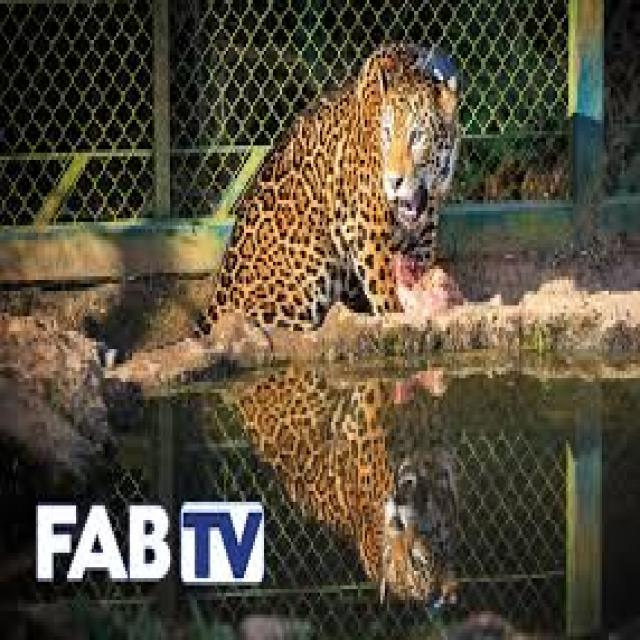Jaguar: (197, 36, 465, 316)
